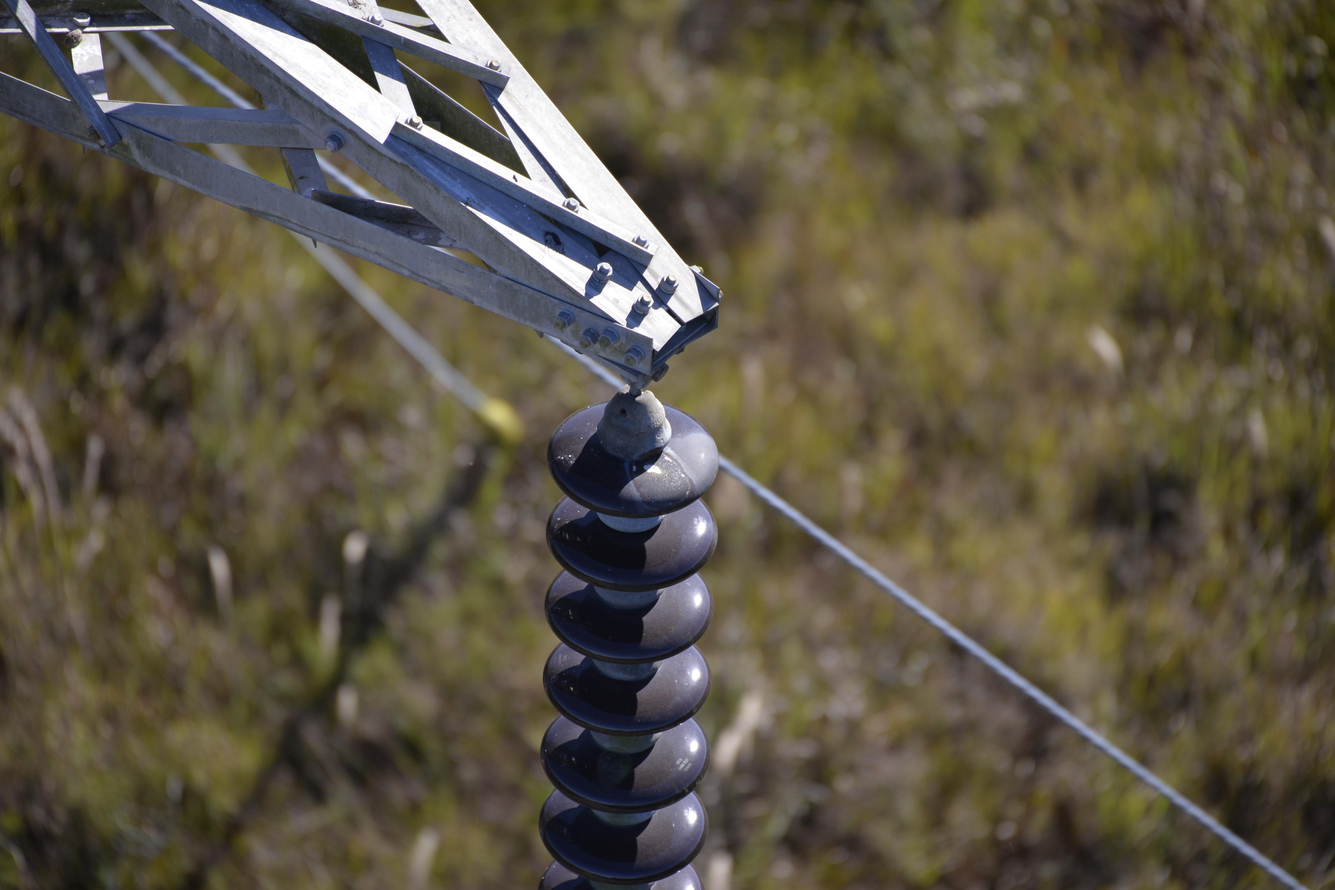Flashover: (627, 442, 695, 510)
insulator: (537, 392, 719, 890)
